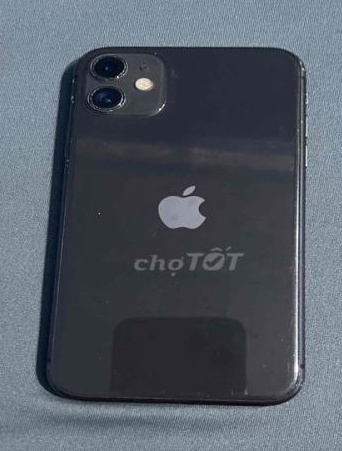scratch: (82, 388, 274, 418), (60, 72, 84, 115), (293, 61, 310, 110), (274, 337, 304, 362), (203, 338, 228, 363), (141, 228, 167, 247), (148, 48, 170, 69), (94, 139, 117, 159), (284, 359, 301, 385), (57, 157, 78, 178), (88, 205, 110, 225), (284, 311, 306, 330), (276, 382, 301, 397), (282, 297, 307, 312), (287, 194, 308, 211), (161, 66, 182, 82), (65, 136, 87, 151), (284, 227, 308, 240), (187, 391, 206, 407), (237, 383, 253, 402), (72, 54, 89, 71), (290, 258, 303, 280), (240, 340, 257, 356), (88, 260, 107, 274), (143, 370, 165, 382), (223, 390, 240, 405), (106, 73, 125, 86), (281, 243, 303, 254), (113, 98, 129, 113), (292, 123, 306, 139), (87, 353, 108, 363), (104, 107, 123, 118), (202, 328, 216, 342), (291, 159, 303, 175), (88, 83, 100, 98), (260, 360, 272, 375), (158, 388, 175, 398), (99, 298, 119, 306), (107, 52, 126, 60), (91, 56, 102, 68), (43, 363, 56, 373), (270, 370, 280, 381)
